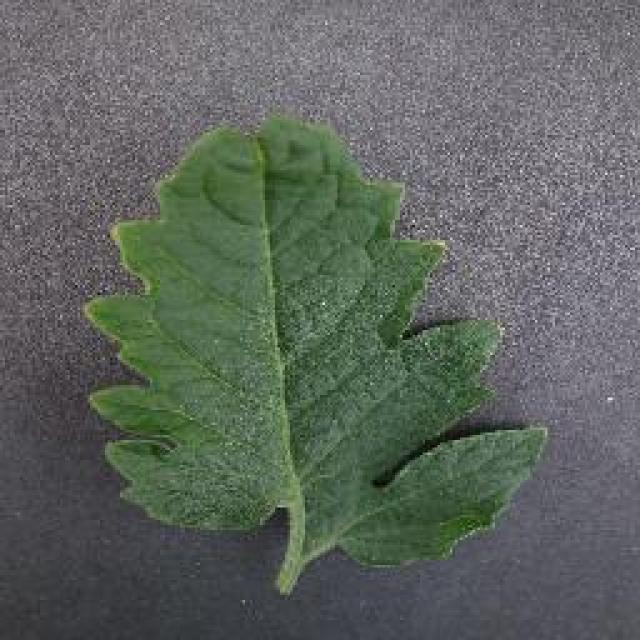Tomato healthy leaf: (88, 115, 548, 583)
